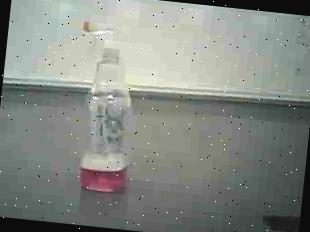hazard: (64, 18, 150, 197)
